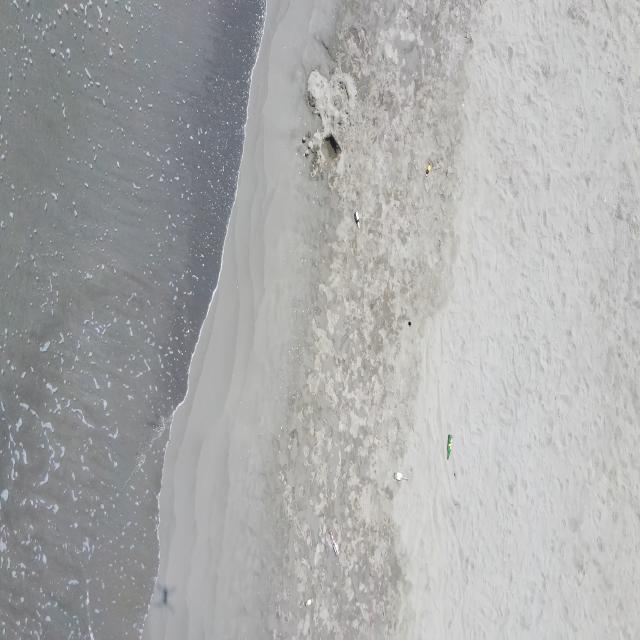glass: (329, 530, 340, 556), (446, 434, 453, 460), (393, 471, 410, 481), (354, 211, 361, 228), (304, 596, 314, 607), (425, 163, 432, 178)
